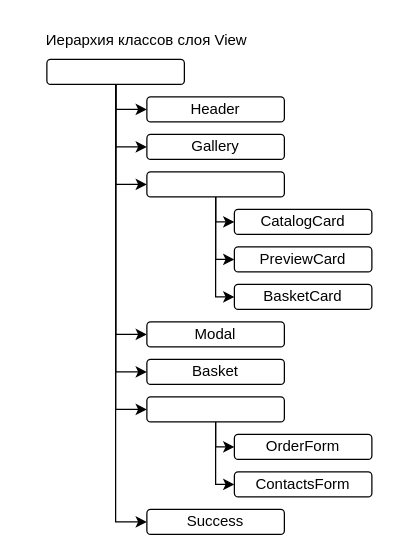
The diagram is 394 pixels wide and 556 high, and some of its shapes have lost their labels. The centre of each missing label's shape, as x and y in pixels:
Card: the point at 215,184
Component: the point at 115,71
Form: the point at 215,409
